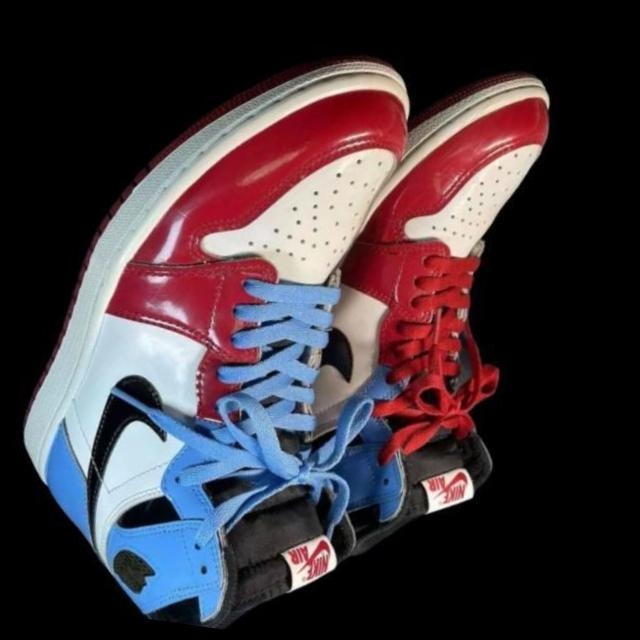nike_original_jordan: (0, 0, 640, 640), (118, 0, 640, 615)
